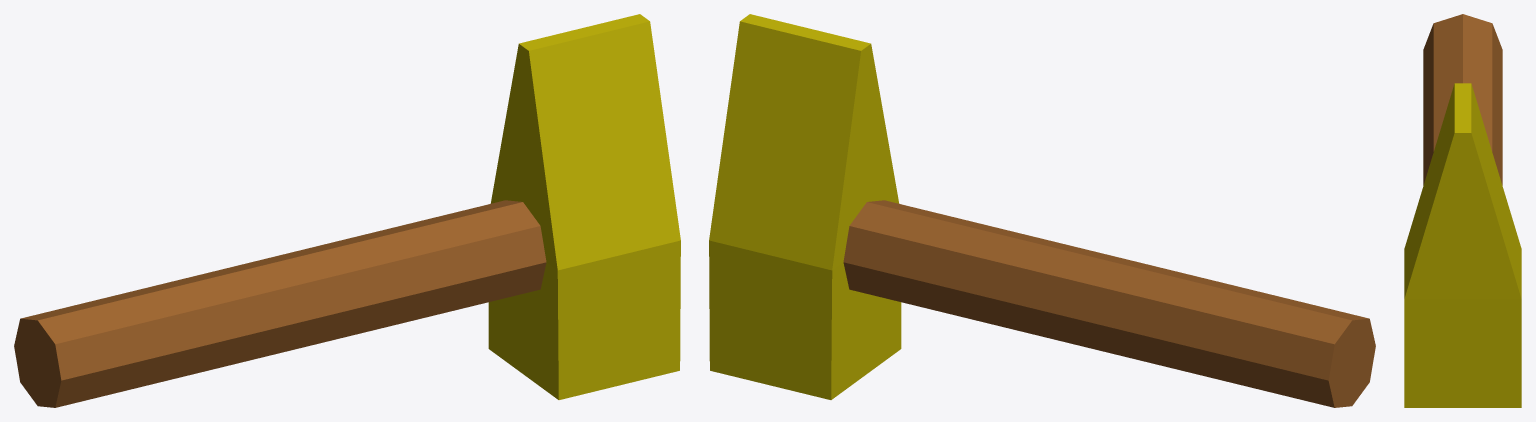
The model's file is Hammer_02.fbx.
The picture shows the model from 3 angles, left to right: view 1: azimuth 30°, elevation 25°; view 2: azimuth 150°, elevation 25°; view 3: azimuth 270°, elevation 25°; orthographic projection. The views are drawn at different scales.
Visible parts, largest first — view 1: Hammer_02; view 2: Hammer_02; view 3: Hammer_02.
Boxes of the visible parts, box(x1,y1,x2,y2) form: Hammer_02: box(14, 14, 680, 407); Hammer_02: box(709, 14, 1375, 407); Hammer_02: box(1404, 14, 1521, 407).
Bounding box in the file's own units: 47.33 × 24.34 × 9.44.
